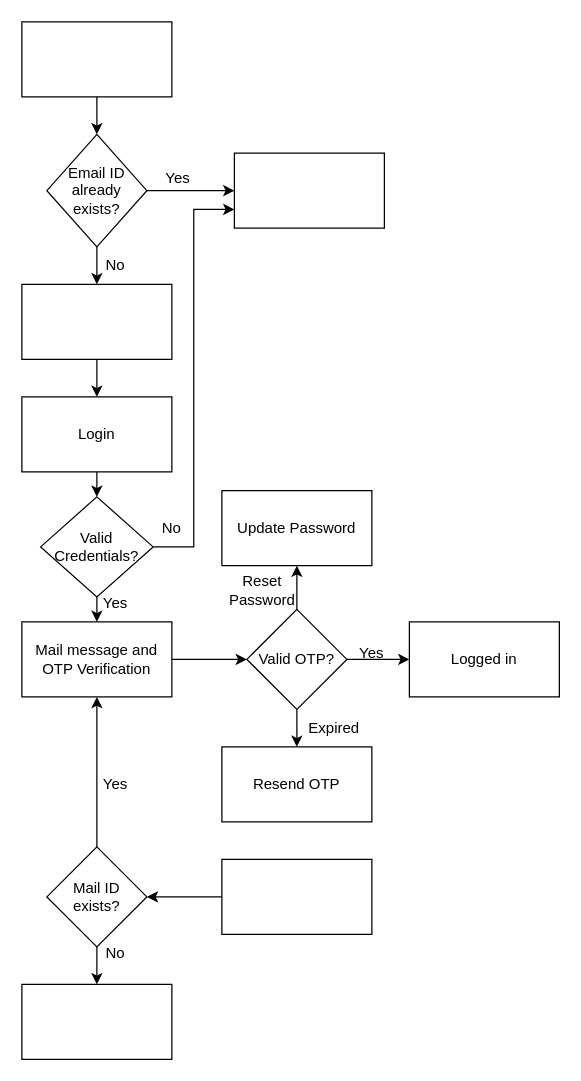
Some shapes in this 581 by 1081 pixel diagram are drawn without their labels. The shapes that lost their labels are listed below. From the top down, each one's centre as x and y in pixels, then its label:
the point at 96,59: Account Creation / SignUp
the point at 308,190: Flash message
the point at 96,321: New account created
the point at 296,896: Forgot Password Mail ID as Input
the point at 96,1021: Flash Error
